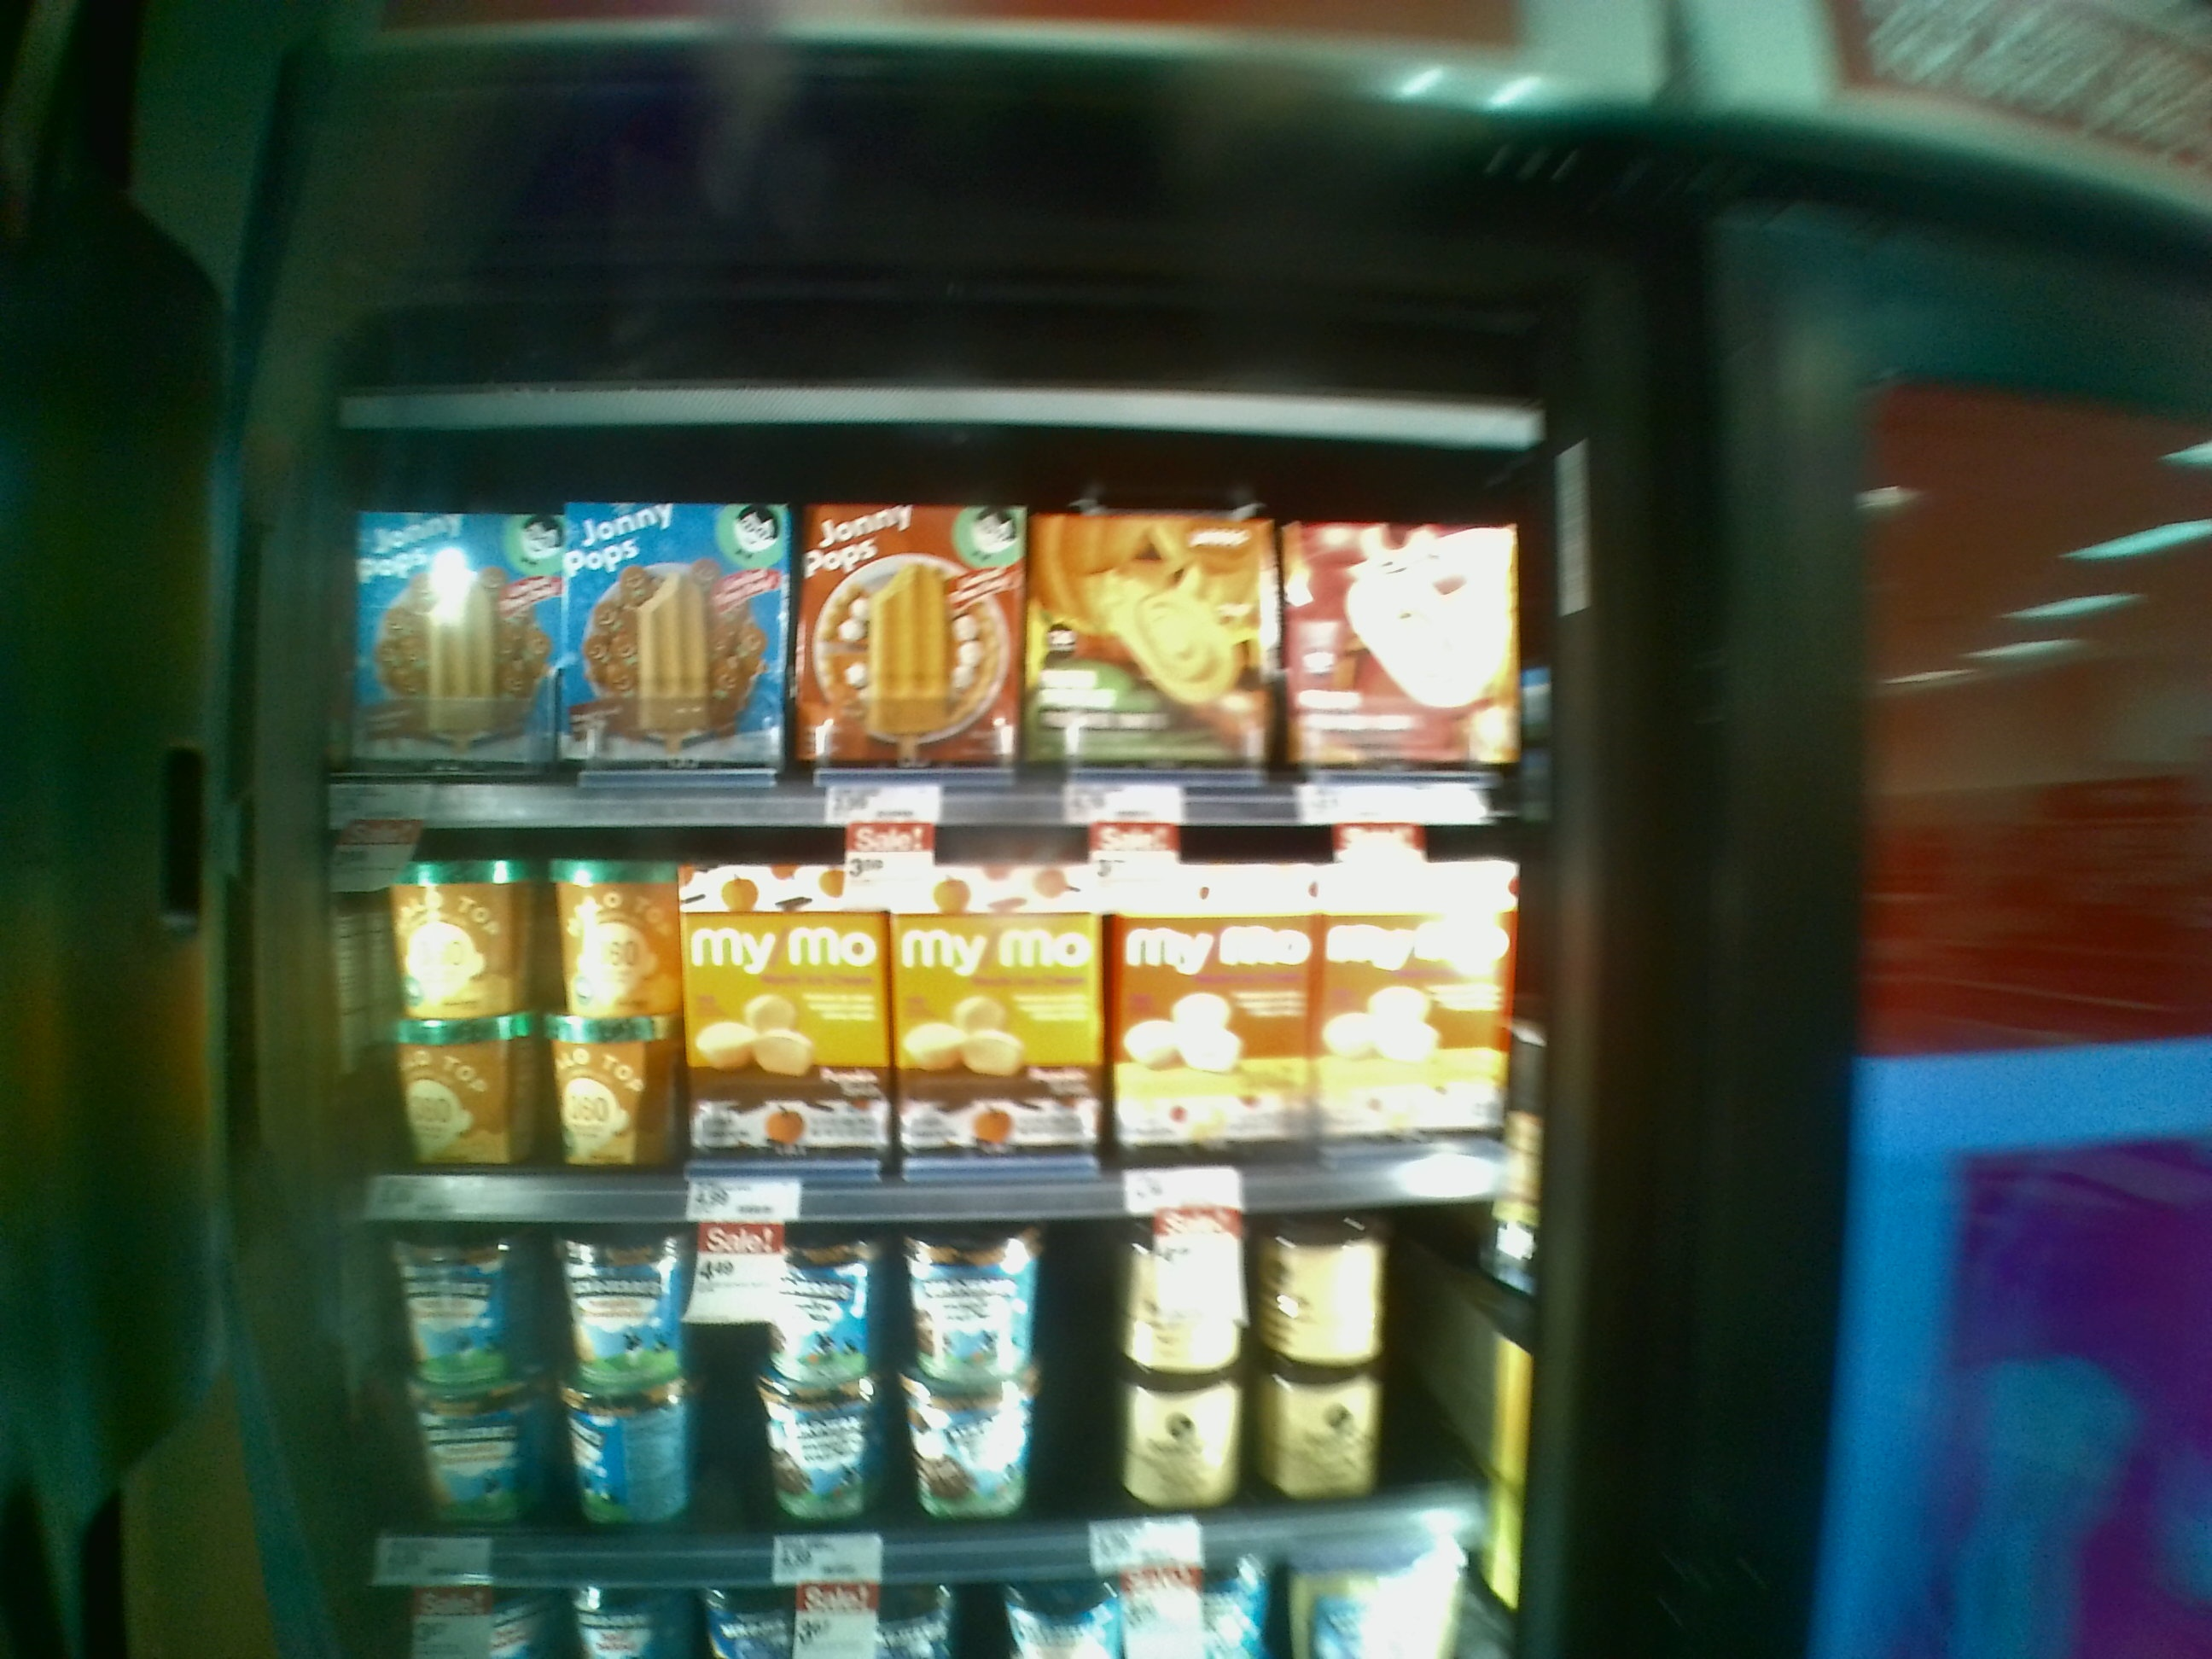shelf: (294, 807, 1541, 1201), (294, 437, 1564, 816), (284, 1195, 1531, 1554)
